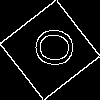O: (25, 25, 75, 69)
